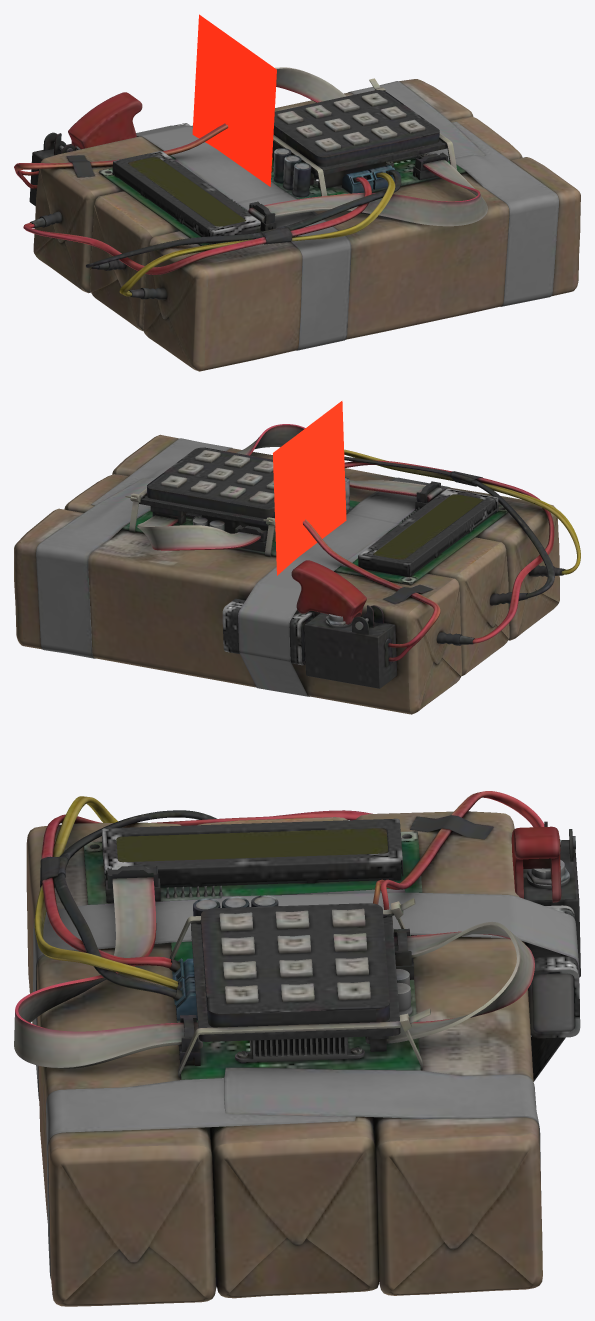
3 renders of one model, top to bottom at view 1: azimuth 30°, elevation 25°; view 2: azimuth 150°, elevation 25°; view 3: azimuth 270°, elevation 25°, orthographic. The views are drawn at different scales.
Parts seen in each view (by area): view 1: w_c4; view 2: w_c4; view 3: w_c4.
Part boxes in pixels (bbox=[...]): w_c4: bbox=[14, 14, 580, 371]; w_c4: bbox=[14, 401, 580, 714]; w_c4: bbox=[14, 791, 580, 1306].
Bounding box in the file's own units: 0.3322 × 0.1687 × 0.2291.
Materials: 2 (1 with a texture image).
